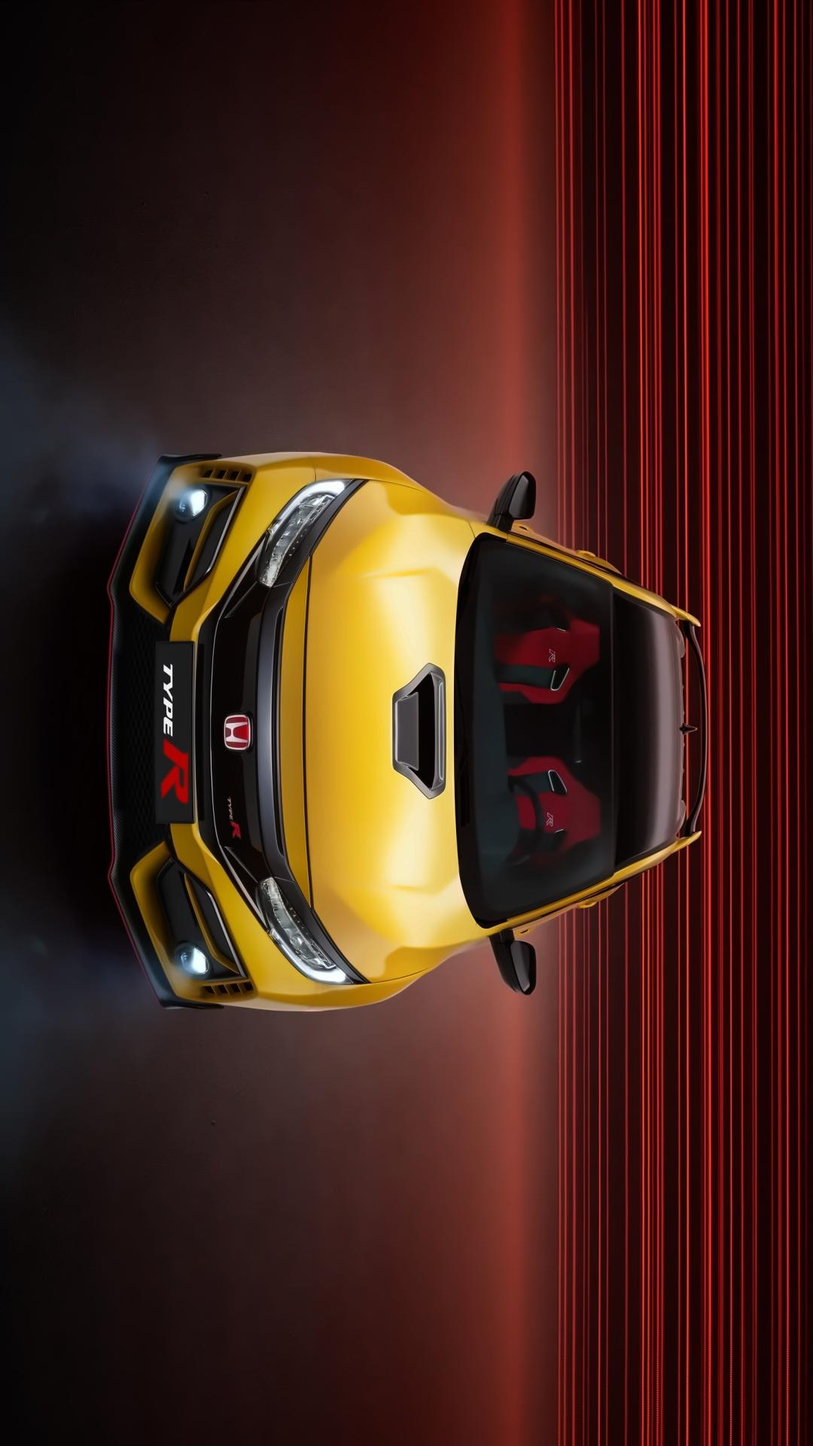Car hood: (274, 481, 480, 985)
Front bumper: (97, 435, 266, 1013)
Headlight - -L-: (249, 868, 352, 990)
Headlight - -R-: (250, 473, 363, 593)
Side mirror - -L-: (486, 921, 552, 1004)
Side mirror - -R-: (474, 455, 551, 543)
